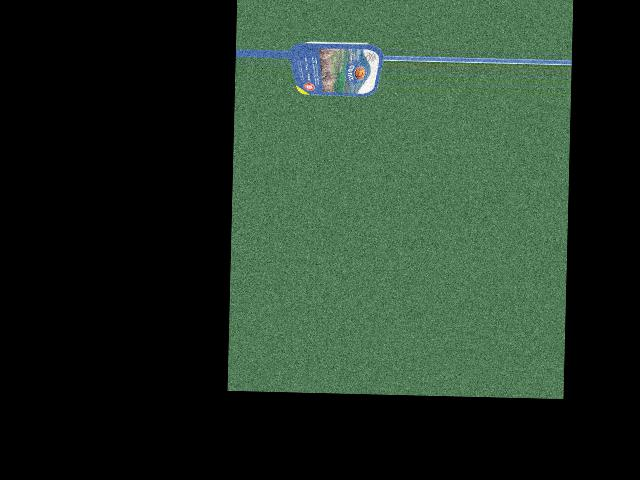cheese: (298, 34, 377, 99)
